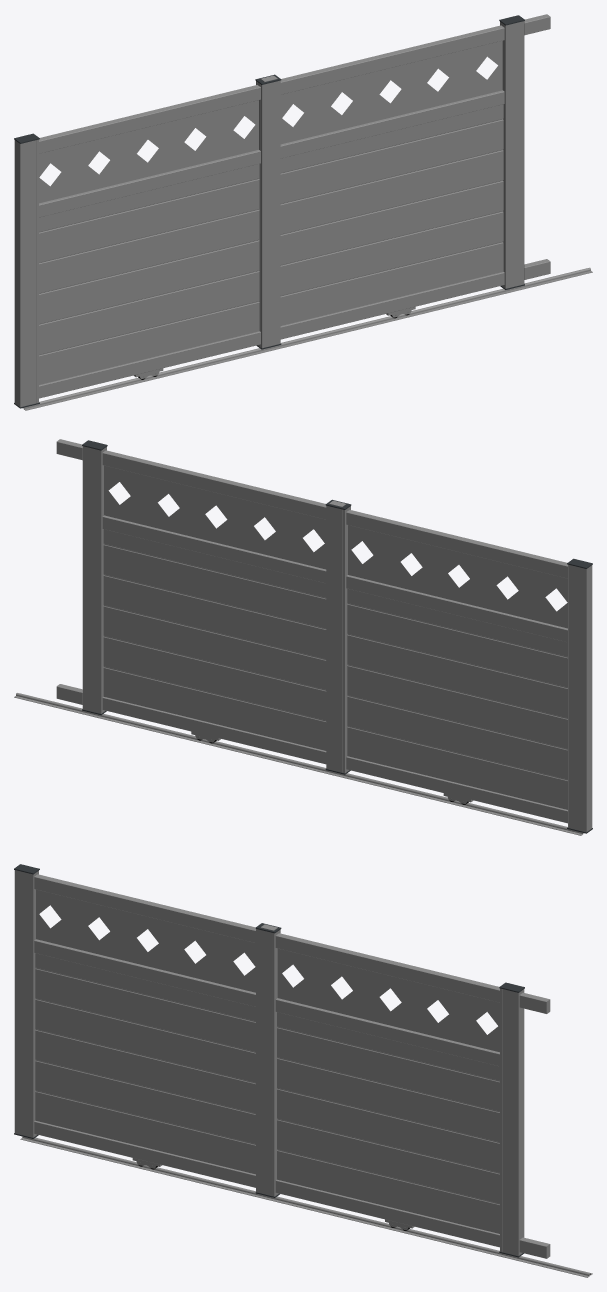
The picture shows the model from 3 angles, top to bottom: view 1: azimuth 30°, elevation 25°; view 2: azimuth 150°, elevation 25°; view 3: azimuth 330°, elevation 25°; orthographic projection.
Visible parts, largest first — view 1: Shape107412162, Shape107412160, Shape107412161, Shape107412157, Shape107412159, losange002, losange, Shape107412167, Shape107412156, Shape107412166, Shape107411709, Shape107412643 (+3 smaller); view 2: Shape107412160, Shape107412161, Shape107412162, Shape107412157, Shape107412159, losange002, losange, Shape107412167, Shape107412156, Shape107412166, Shape107412643, Shape107411709 (+3 smaller); view 3: Shape107412160, Shape107412161, Shape107412162, Shape107412157, Shape107412159, losange002, losange, Shape107412167, Shape107412166, Shape107412156, Shape107411709, Shape107413021 (+3 smaller).
Part boxes in pixels (x1,y1,x2,y2): Shape107412162: [39, 149, 503, 293]; Shape107412160: [39, 211, 503, 354]; Shape107412161: [39, 180, 503, 323]; Shape107412157: [39, 119, 503, 262]; Shape107412159: [39, 242, 503, 384]; losange002: [280, 40, 502, 144]; losange: [39, 100, 258, 203]; Shape107412167: [39, 14, 550, 153]; Shape107412156: [39, 104, 503, 231]; Shape107412166: [39, 259, 550, 398]; Shape107411709: [39, 90, 504, 217]; Shape107412643: [14, 139, 38, 407]; Shape107412160: [103, 636, 567, 779]; Shape107412161: [103, 605, 567, 748]; Shape107412162: [103, 574, 567, 718]; Shape107412157: [103, 544, 567, 687]; Shape107412159: [103, 666, 567, 809]; losange002: [104, 465, 326, 569]; losange: [348, 525, 567, 628]; Shape107412167: [56, 439, 567, 578]; Shape107412156: [103, 529, 567, 656]; Shape107412166: [56, 684, 567, 823]; Shape107412643: [568, 564, 592, 832]; Shape107411709: [102, 515, 567, 642]; Shape107412160: [35, 1060, 499, 1203]; Shape107412161: [35, 1029, 499, 1172]; Shape107412162: [35, 998, 499, 1142]; Shape107412157: [35, 968, 499, 1111]; Shape107412159: [35, 1090, 499, 1233]; losange002: [277, 948, 499, 1052]; losange: [36, 889, 255, 992]; Shape107412167: [34, 874, 550, 1013]; Shape107412166: [34, 1120, 550, 1258]; Shape107412156: [35, 953, 499, 1080]; Shape107411709: [34, 939, 499, 1066]; Shape107413021: [500, 988, 524, 1255].
Bounding box in the file's own units: 3638 × 1639 × 70.
Materials: 6 (2 with a texture image).
